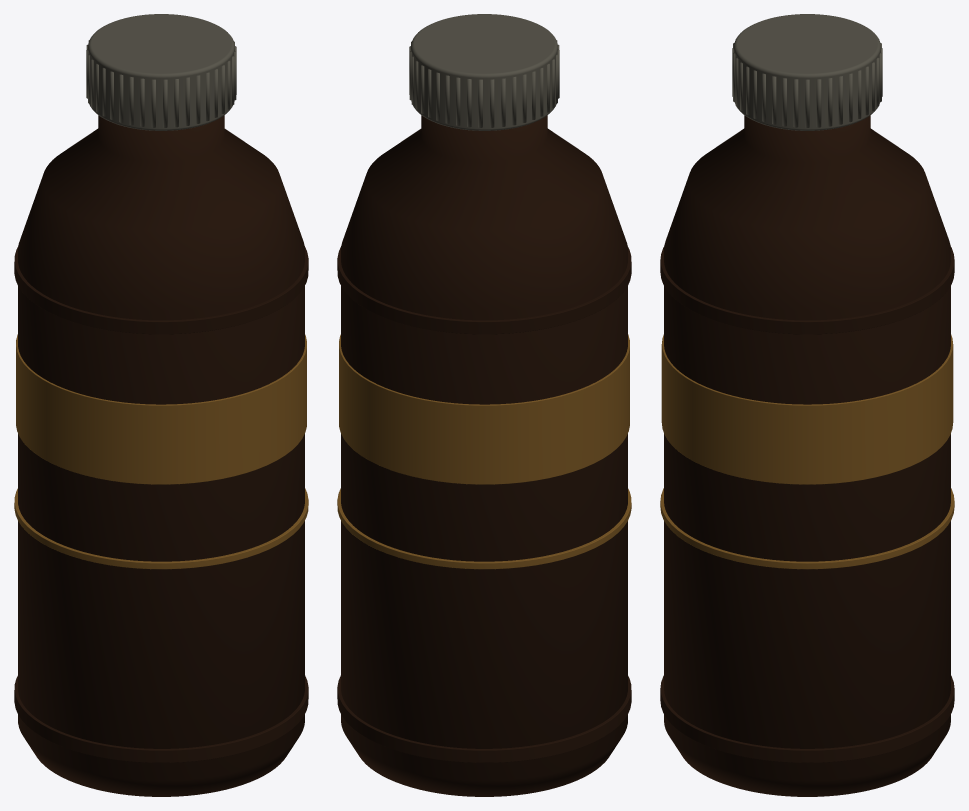
File: C04_DeveloperBottle.fbx
3 views of the same model, side by side, from view 1: azimuth 30°, elevation 25°; view 2: azimuth 150°, elevation 25°; view 3: azimuth 270°, elevation 25° (orthographic).
Parts seen in each view (by area): view 1: Body_Mesh, BottleCap_Mesh; view 2: Body_Mesh, BottleCap_Mesh; view 3: Body_Mesh, BottleCap_Mesh.
Boxes of the visible parts, <box> form: Body_Mesh: <box>14,115,308,796</box>; BottleCap_Mesh: <box>86,14,236,130</box>; Body_Mesh: <box>337,115,631,796</box>; BottleCap_Mesh: <box>409,14,559,130</box>; Body_Mesh: <box>660,115,954,796</box>; BottleCap_Mesh: <box>732,14,882,130</box>.
Bounding box in the file's own units: 0.084 × 0.22 × 0.084.
